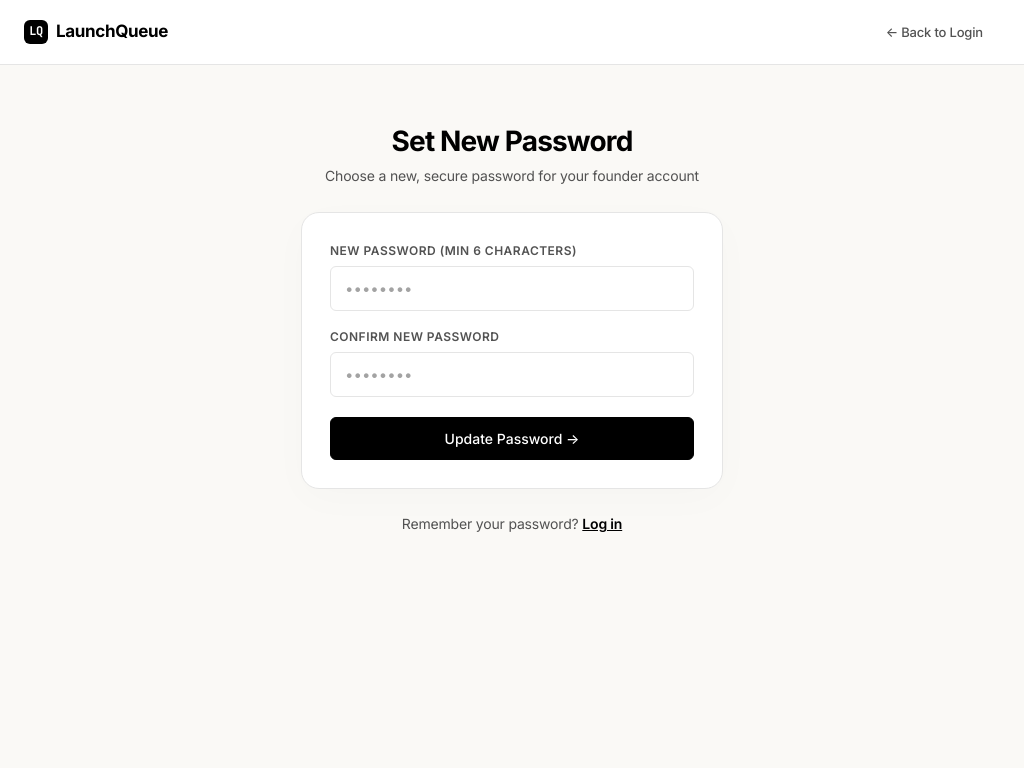
Test: ResetPassword Page › submits new password when passwords match and token is present
In the password field with placeholder "••••••••" below "New Password (min 6 characters)": [512, 288] box [330,266,694,311], type "brandnewpassword123"
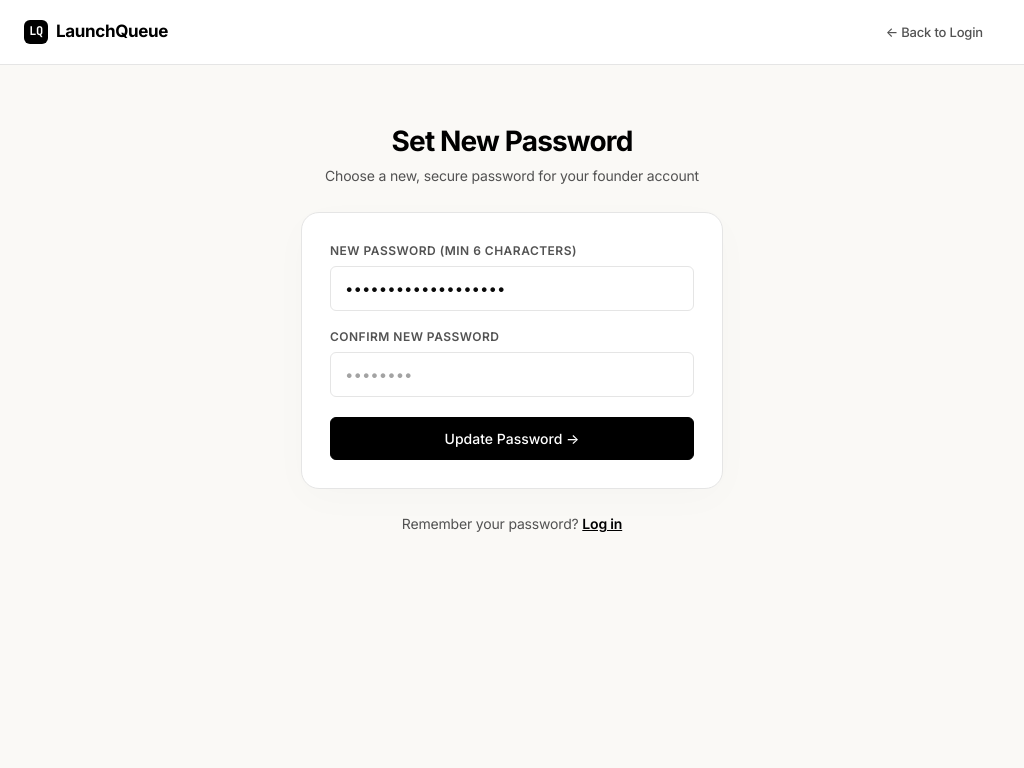
In the password field with placeholder "••••••••": [512, 374] box [330,352,694,397], type "brandnewpassword123"
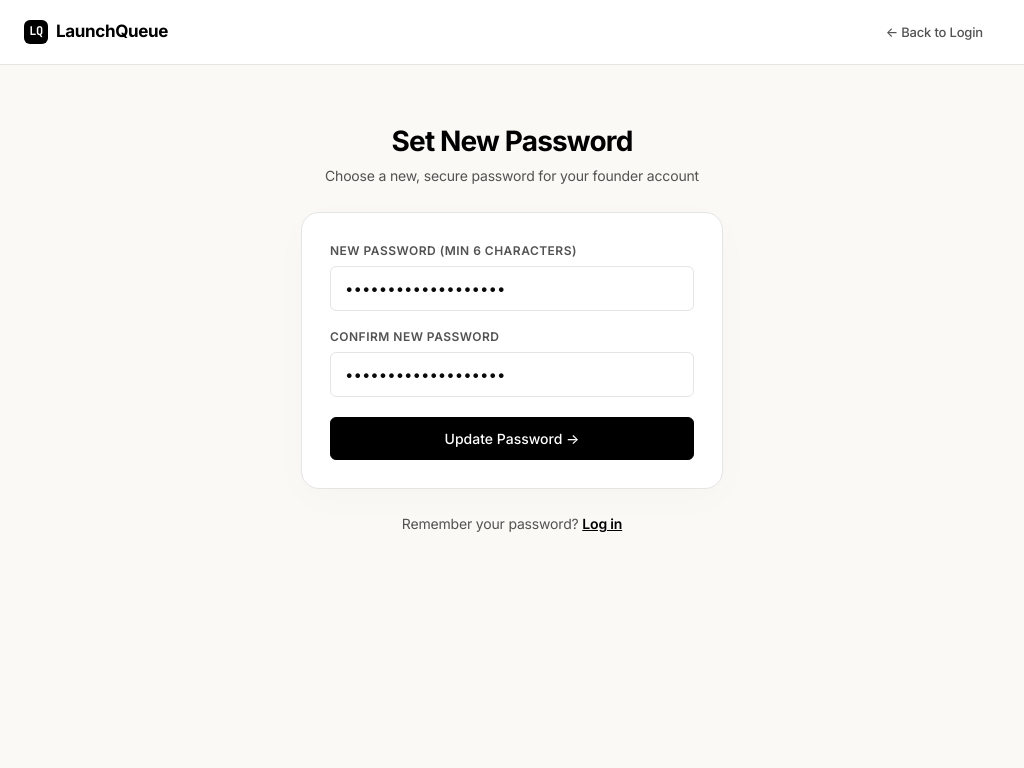
Click the button "Update Password →": [512, 438] box [330,417,694,460]
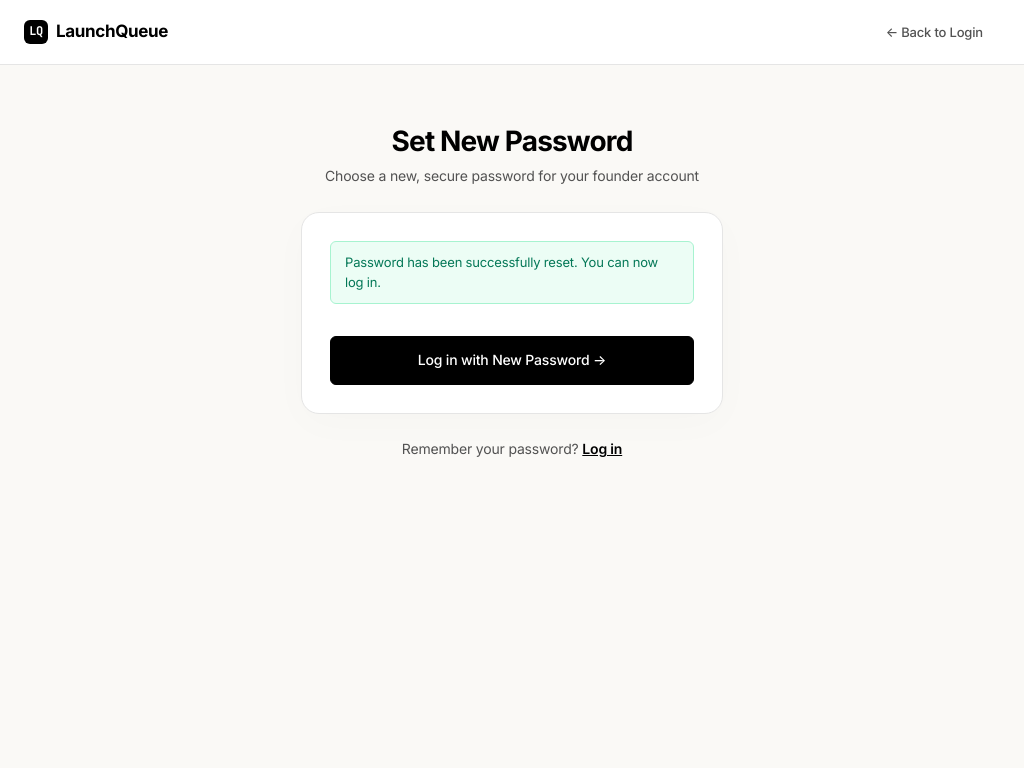
Now the text "Password has been successfully reset. You can now log in." is shown, box [330,241,694,304]
Now the link "Log in with New Password →" is shown, box [330,336,694,385]
